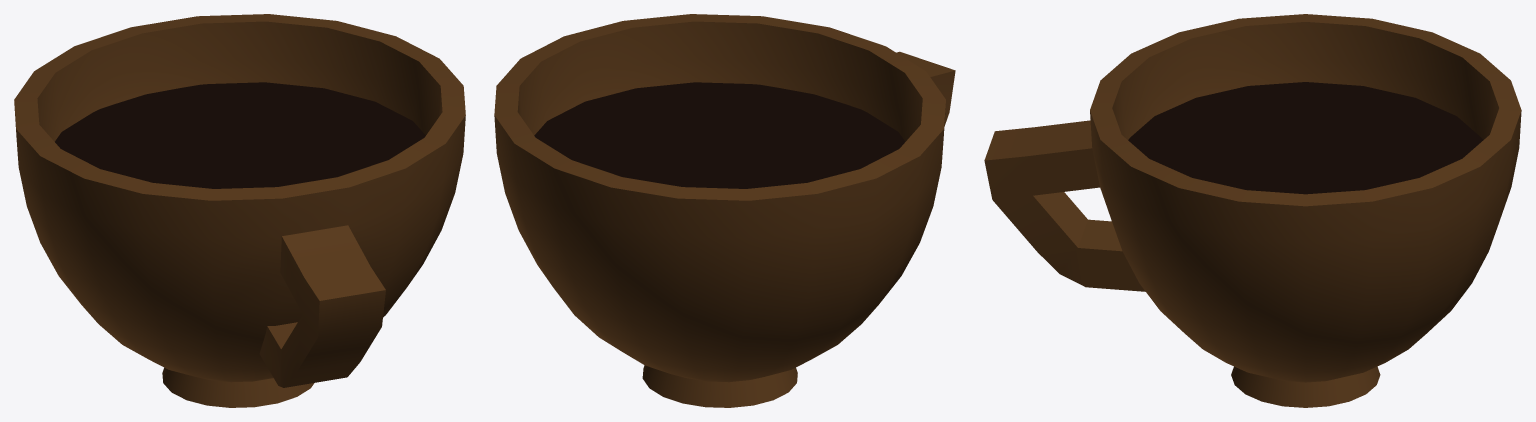
File: tea_cup.dae
3 views of the same model, side by side, from view 1: azimuth 30°, elevation 25°; view 2: azimuth 150°, elevation 25°; view 3: azimuth 270°, elevation 25° (orthographic).
Visible parts, largest first — view 1: pSphere1, pDisc1; view 2: pSphere1, pDisc1; view 3: pSphere1, pDisc1.
Part boxes in pixels (<box>): pSphere1: <box>14,14,465,407</box>; pDisc1: <box>55,82,425,188</box>; pSphere1: <box>494,14,955,407</box>; pDisc1: <box>534,82,905,188</box>; pSphere1: <box>984,14,1521,407</box>; pDisc1: <box>1128,82,1483,194</box>.
Size of the model in its own units: 3.51 by 2.39 by 4.14.
